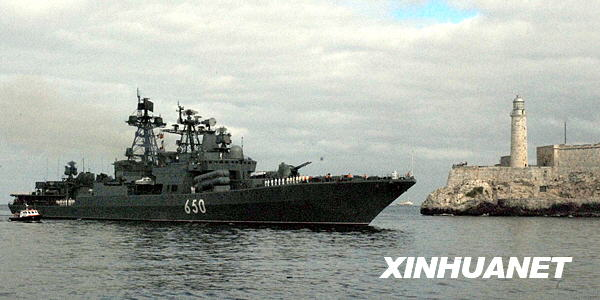otherboat: (5, 203, 43, 225)
warship: (19, 84, 423, 238)
